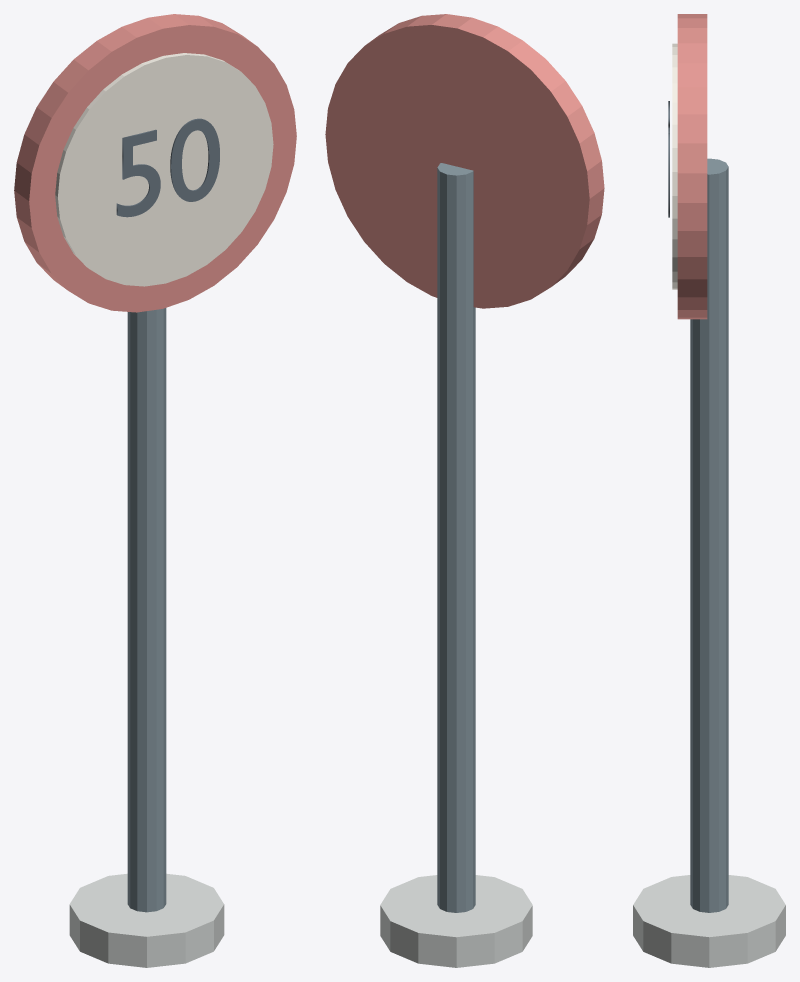
Rendered from speed_50.glb.
3 renders of one model, left to right at view 1: azimuth 30°, elevation 25°; view 2: azimuth 150°, elevation 25°; view 3: azimuth 270°, elevation 25°, orthographic.
Visible parts, largest first — view 1: speed_50_003, speed_50_002, speed_50_000, speed_50_001, speed_50_004; view 2: speed_50_002, speed_50_000, speed_50_001; view 3: speed_50_000, speed_50_001, speed_50_002, speed_50_003.
Boxes of the visible parts, <box> form: speed_50_003: <box>55,53,273,286</box>; speed_50_002: <box>14,14,296,312</box>; speed_50_000: <box>127,308,166,912</box>; speed_50_001: <box>69,873,224,967</box>; speed_50_004: <box>116,118,219,217</box>; speed_50_002: <box>325,14,604,308</box>; speed_50_000: <box>437,163,475,912</box>; speed_50_001: <box>380,875,532,967</box>; speed_50_000: <box>690,158,728,912</box>; speed_50_001: <box>633,875,785,967</box>; speed_50_002: <box>677,14,707,319</box>; speed_50_003: <box>672,43,677,289</box>.
Size of the model in its own units: 0.72 by 2.36 by 0.36.
